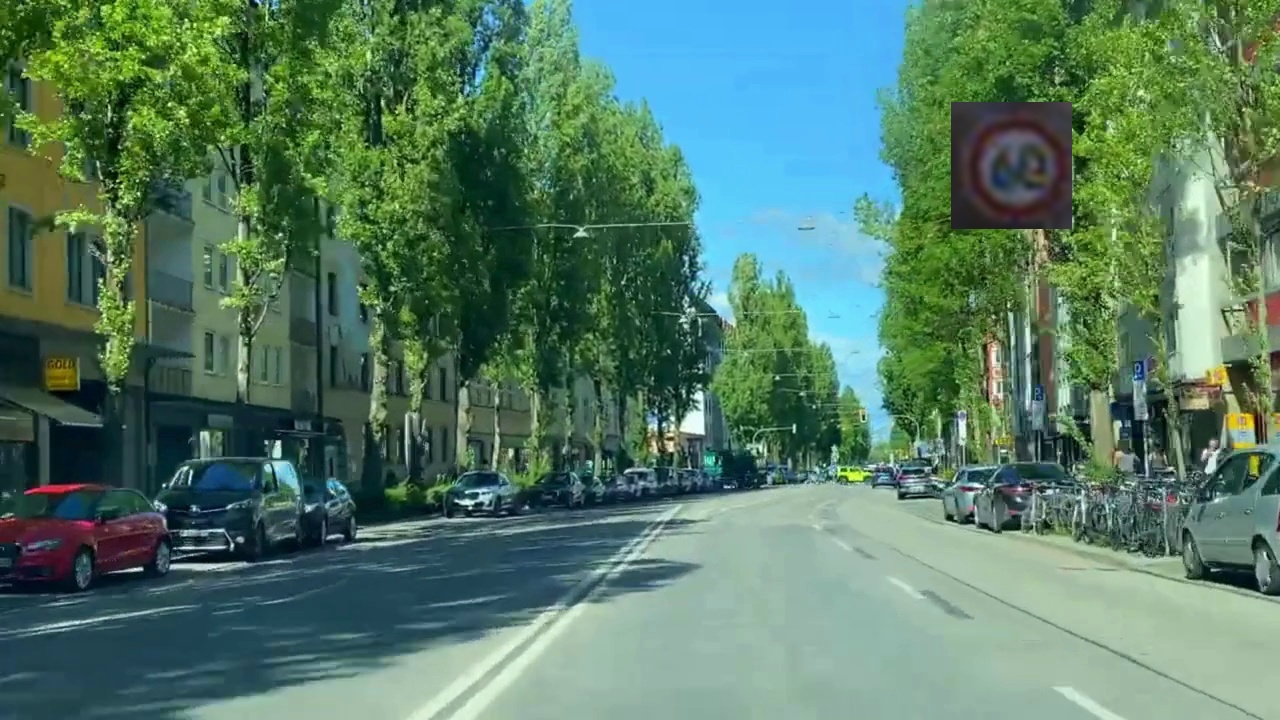Speed 60: (951, 102, 1072, 229)
